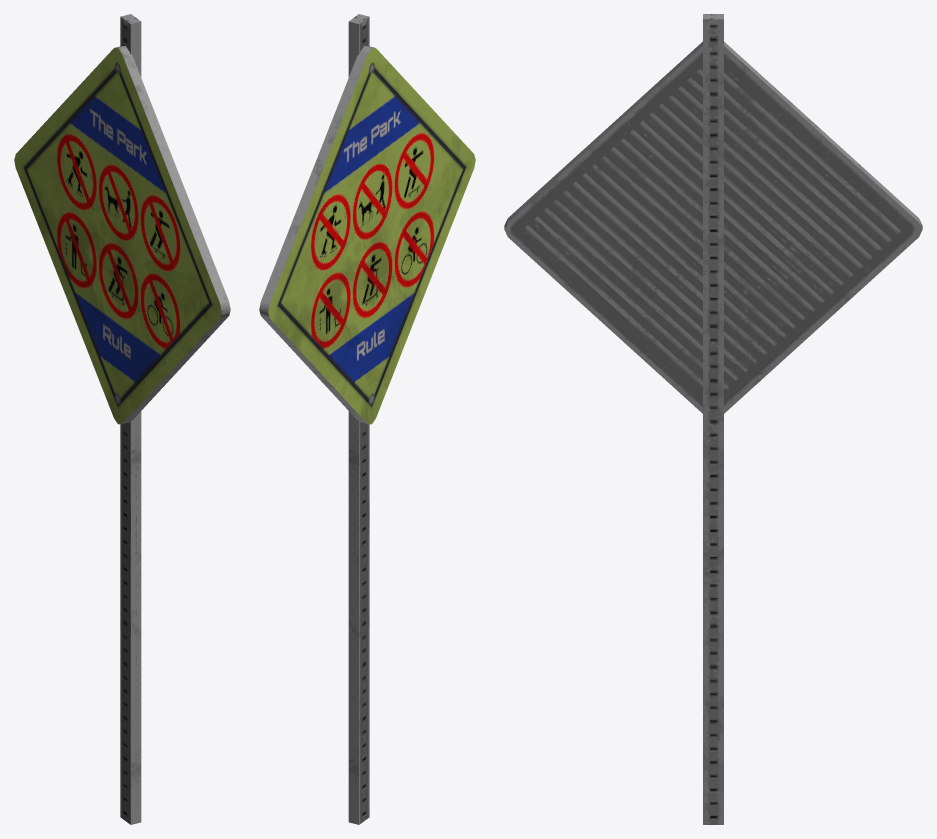
File: MB_Sign_Park_Rule.fbx
The picture shows the model from 3 angles, left to right: view 1: azimuth 30°, elevation 25°; view 2: azimuth 150°, elevation 25°; view 3: azimuth 270°, elevation 25°; orthographic projection.
Parts seen in each view (by area): view 1: MB_Sign_Park_Rule; view 2: MB_Sign_Park_Rule; view 3: MB_Sign_Park_Rule.
Boxes of the visible parts, x1,y1,x2,y2 form: MB_Sign_Park_Rule: (14, 14, 230, 824); MB_Sign_Park_Rule: (259, 14, 475, 824); MB_Sign_Park_Rule: (504, 14, 922, 824).
Size of the model in its own units: 3.63 by 153 by 71.72.
